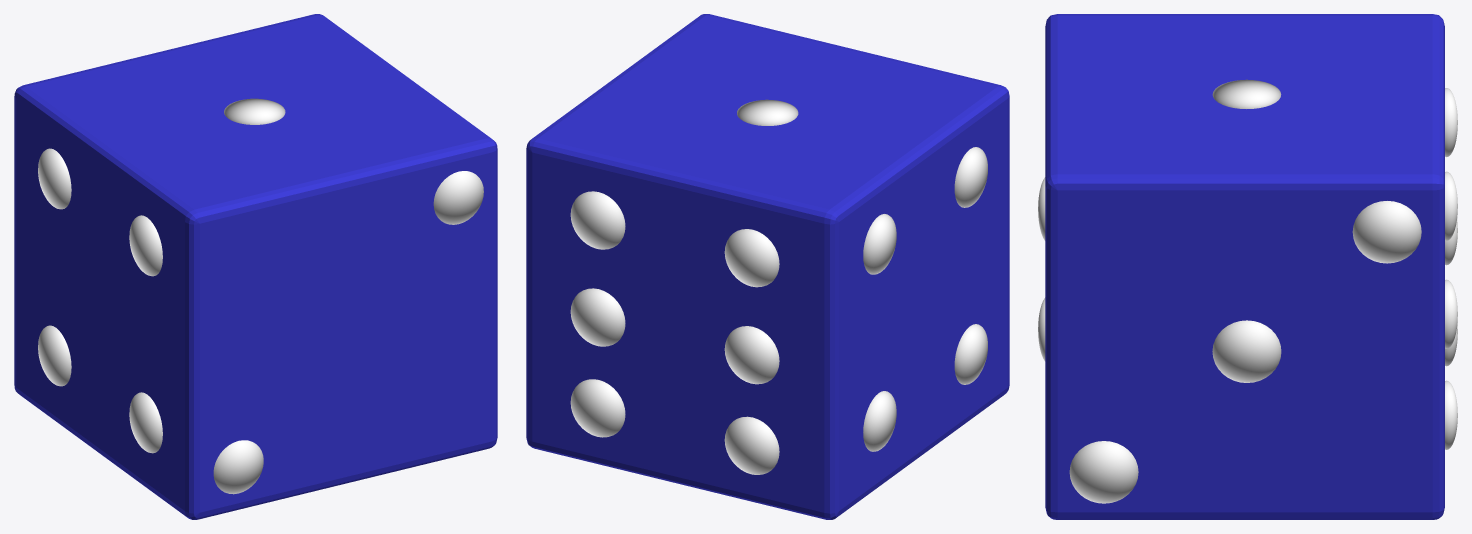
The model's file is Dice.gltf.
3 views of the same model, side by side, from view 1: azimuth 30°, elevation 25°; view 2: azimuth 150°, elevation 25°; view 3: azimuth 270°, elevation 25° (orthographic). The views are drawn at different scales.
Parts seen in each view (by area): view 1: node-0; view 2: node-0; view 3: node-0.
Boxes of the visible parts, x1,y1,x2,y2 form: node-0: [14, 14, 497, 519]; node-0: [526, 14, 1009, 519]; node-0: [1038, 14, 1457, 519].
Bounding box in the file's own units: 229078 × 216183 × 228140.
